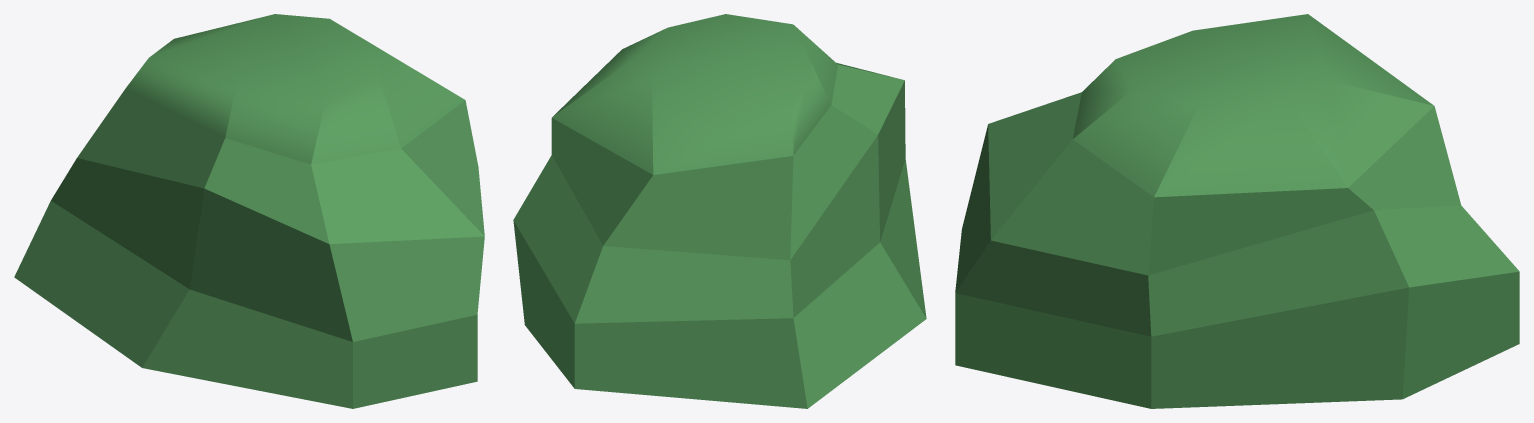
The model's file is arbusto.fbx.
3 renders of one model, left to right at view 1: azimuth 30°, elevation 25°; view 2: azimuth 150°, elevation 25°; view 3: azimuth 270°, elevation 25°, orthographic. The views are drawn at different scales.
Parts seen in each view (by area): view 1: polySurface2; view 2: polySurface2; view 3: polySurface2.
Boxes of the visible parts, <box> form: polySurface2: <box>14,14,484,408</box>; polySurface2: <box>513,14,926,408</box>; polySurface2: <box>955,14,1519,408</box>.
Bounding box in the file's own units: 1.05 × 0.754 × 1.43.
